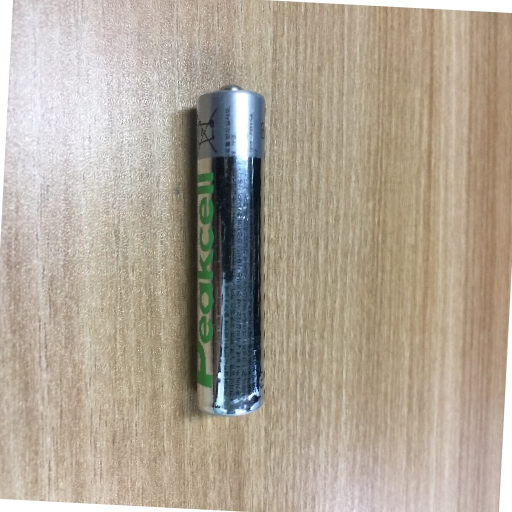Battery_0: (178, 74, 290, 430)
